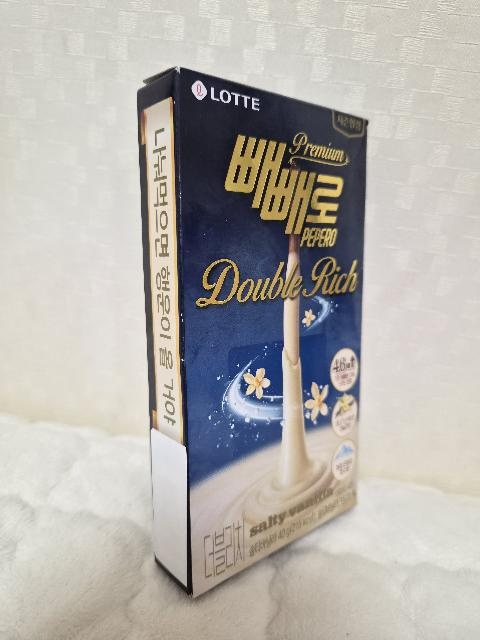pepero: (137, 66, 369, 598)
